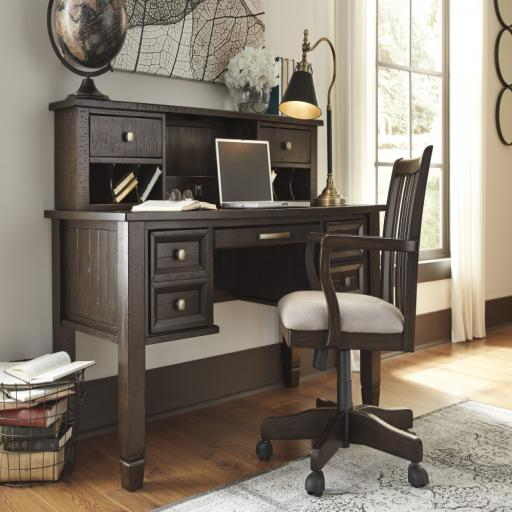chair: (255, 145, 433, 494)
desk: (44, 97, 387, 489)
wall: (0, 0, 335, 442), (484, 0, 512, 335)
